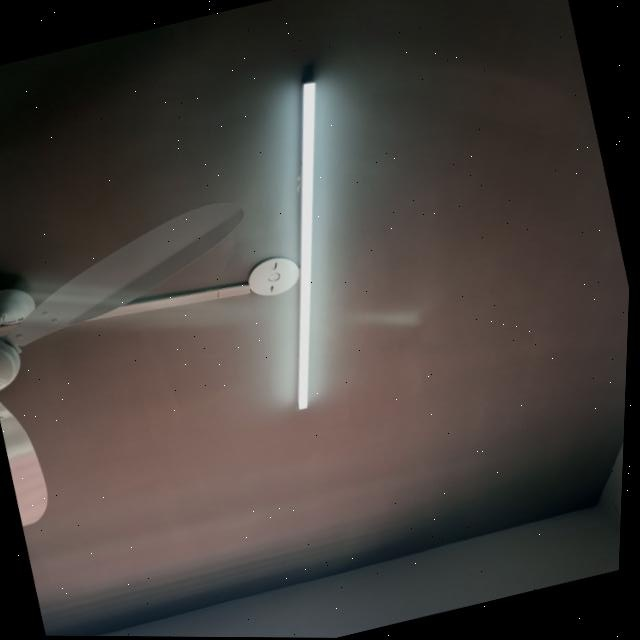fluorescent tube: (220, 73, 403, 417)
